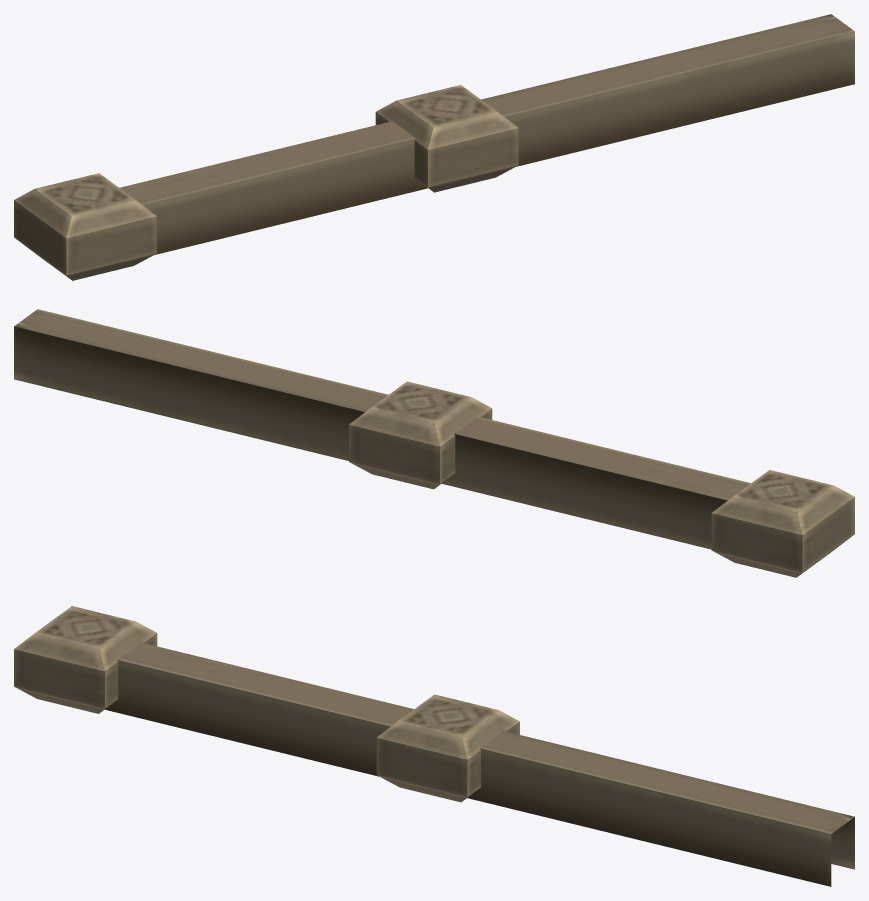
The model's file is fence_4.FBX.
The picture shows the model from 3 angles, top to bottom: view 1: azimuth 30°, elevation 25°; view 2: azimuth 150°, elevation 25°; view 3: azimuth 330°, elevation 25°; orthographic projection.
Parts seen in each view (by area): view 1: fence_4; view 2: fence_4; view 3: fence_4.
Boxes of the visible parts, x1=… form: fence_4: x1=14, y1=14, x2=854, y2=280; fence_4: x1=14, y1=309, x2=854, y2=577; fence_4: x1=14, y1=606, x2=854, y2=886.
Bounding box in the file's own units: 65.21 × 5.11 × 7.37.
